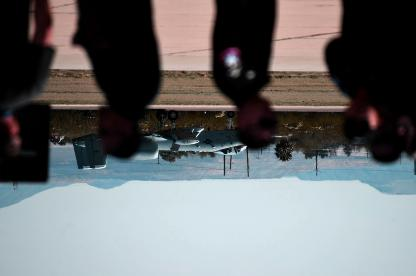A10: (72, 110, 248, 170)
